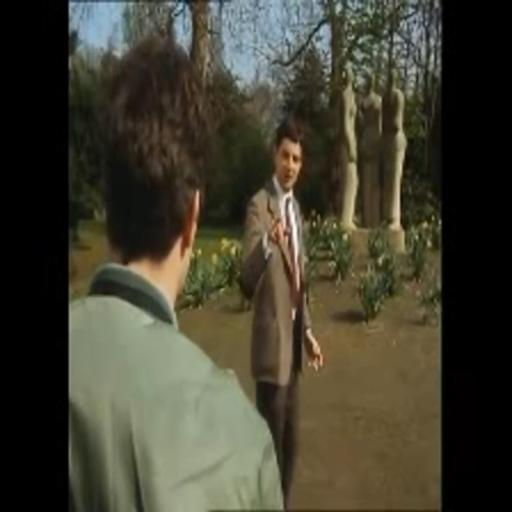nao-violencia: (68, 24, 347, 512)
